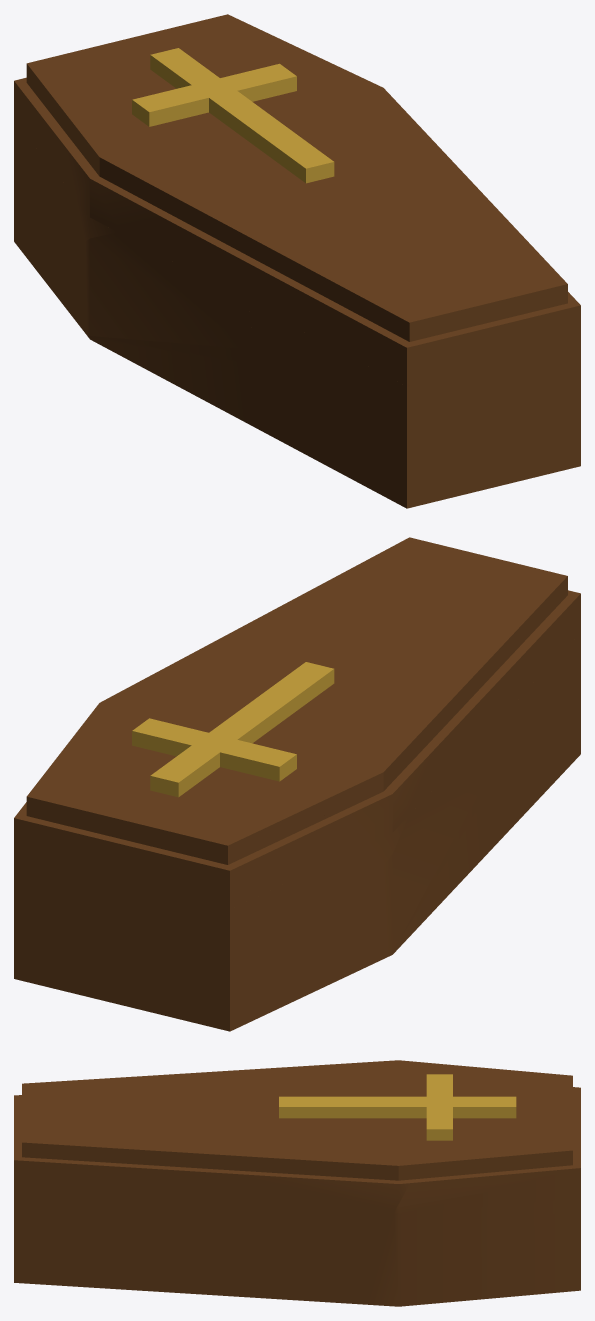
File: Coffin2_roto.gltf
3 renders of one model, top to bottom at view 1: azimuth 30°, elevation 25°; view 2: azimuth 150°, elevation 25°; view 3: azimuth 270°, elevation 25°, orthographic. The views are drawn at different scales.
Visible parts, largest first — view 1: pieza_01, pieza_06, pieza_07, pieza_02, pieza_04, pieza_08, pieza_09, pieza_00, pieza_10, pieza_05, pieza_03, pieza_12; view 2: pieza_08, pieza_05, pieza_06, pieza_07, pieza_01, pieza_02, pieza_00, pieza_09, pieza_10, pieza_03, pieza_12; view 3: pieza_05, pieza_10, pieza_11, pieza_07, pieza_06, pieza_01, pieza_00, pieza_08, pieza_04.
Boxes of the visible parts, x1,y1,x2,y2 form: pieza_01: [244, 239, 532, 402]; pieza_06: [65, 76, 371, 241]; pieza_07: [228, 82, 488, 266]; pieza_02: [85, 216, 254, 349]; pieza_04: [415, 345, 580, 506]; pieza_08: [14, 46, 130, 335]; pieza_09: [255, 351, 434, 484]; pieza_00: [132, 48, 334, 183]; pieza_10: [430, 200, 580, 404]; pieza_05: [98, 14, 359, 84]; pieza_03: [87, 335, 264, 432]; pieza_12: [362, 384, 430, 508]; pieza_08: [154, 797, 386, 1031]; pieza_05: [14, 717, 218, 1022]; pieza_06: [89, 695, 449, 867]; pieza_07: [94, 608, 485, 709]; pieza_01: [388, 547, 580, 773]; pieza_02: [382, 691, 490, 956]; pieza_00: [132, 662, 334, 797]; pieza_09: [490, 629, 580, 843]; pieza_10: [277, 537, 449, 609]; pieza_03: [386, 773, 496, 957]; pieza_12: [554, 630, 580, 782]; pieza_05: [368, 1098, 580, 1306]; pieza_10: [14, 1121, 191, 1293]; pieza_11: [184, 1162, 395, 1304]; pieza_07: [144, 1070, 411, 1209]; pieza_06: [256, 1060, 499, 1174]; pieza_01: [14, 1072, 198, 1142]; pieza_00: [279, 1074, 516, 1140]; pieza_08: [475, 1067, 580, 1115]; pieza_04: [14, 1236, 62, 1285].
Size of the model in its own units: 0.5452 by 0.3356 by 1.16.
